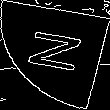N_E: (21, 30, 89, 80)
